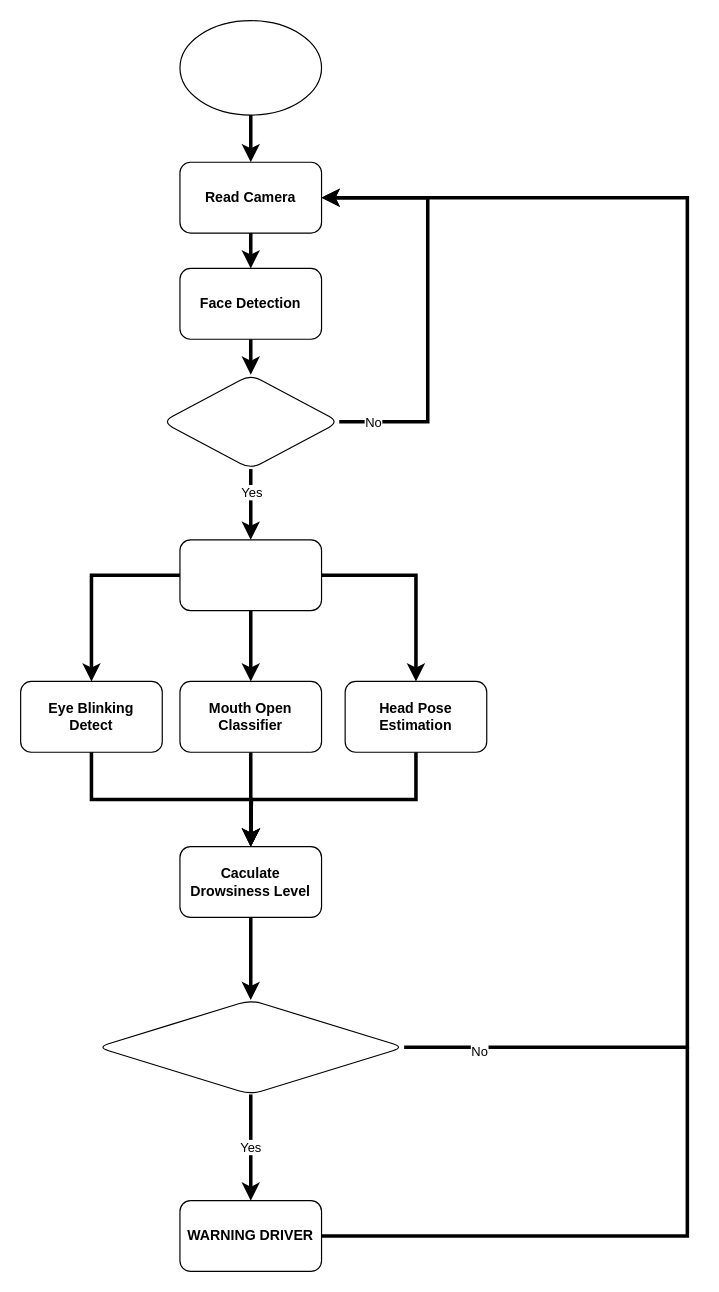
Image size: 719x1292. Some labels were removed from this diagram. The box of each missing label's shape, as (x1, y1, x2, y2) in pixels:
Drowsiness Level > Threshold: (96, 999, 404, 1094)
Face Exist?: (161, 373, 339, 469)
Facial Landmark Detection: (179, 539, 322, 611)
START: (179, 19, 322, 115)
